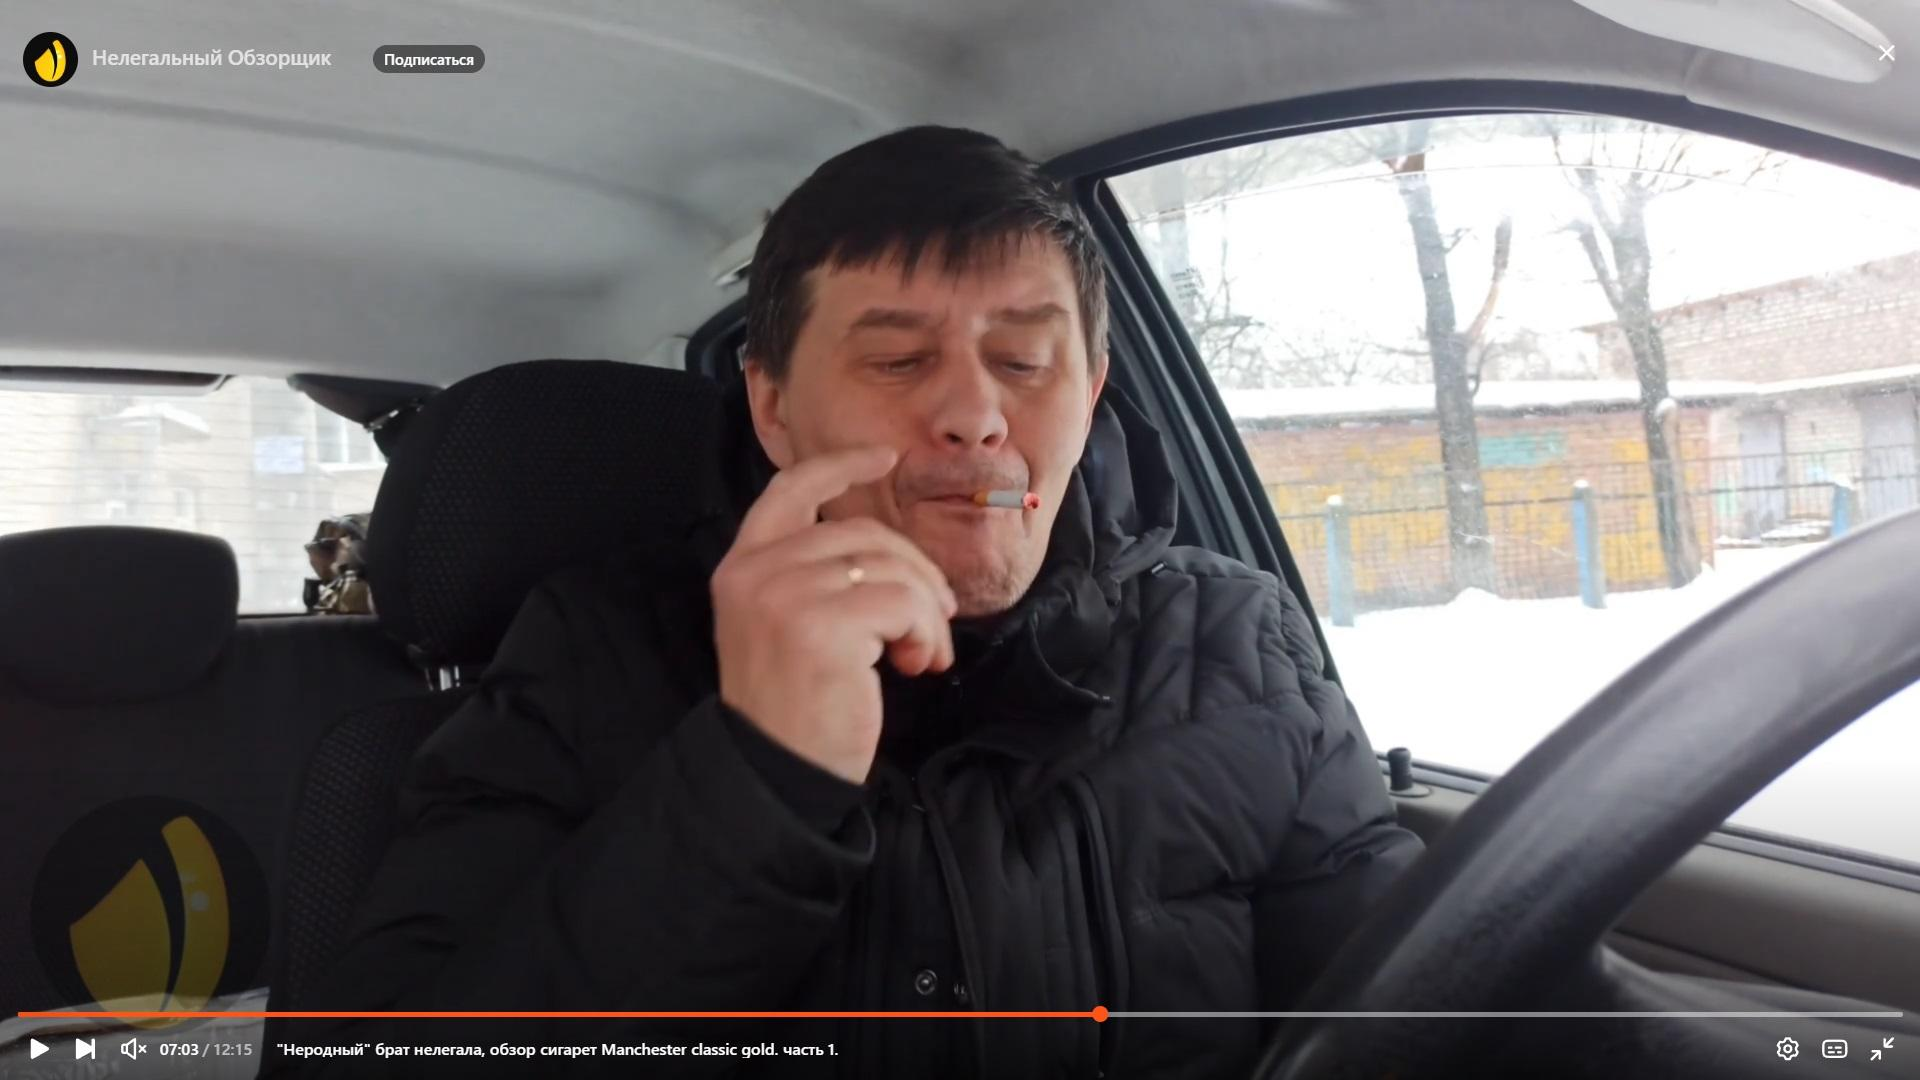cigarette: (975, 492, 1043, 510)
